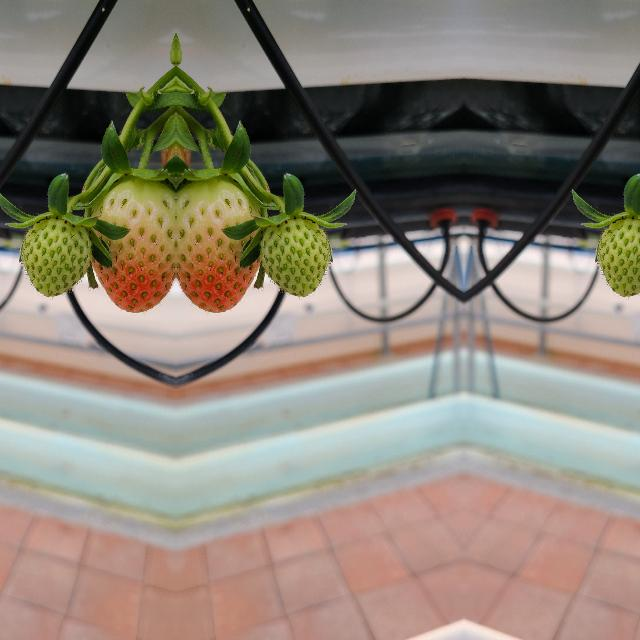Health_25: (258, 218, 328, 296), (22, 218, 92, 296), (598, 218, 640, 296)
Health_75: (174, 166, 260, 314), (90, 166, 176, 314)
